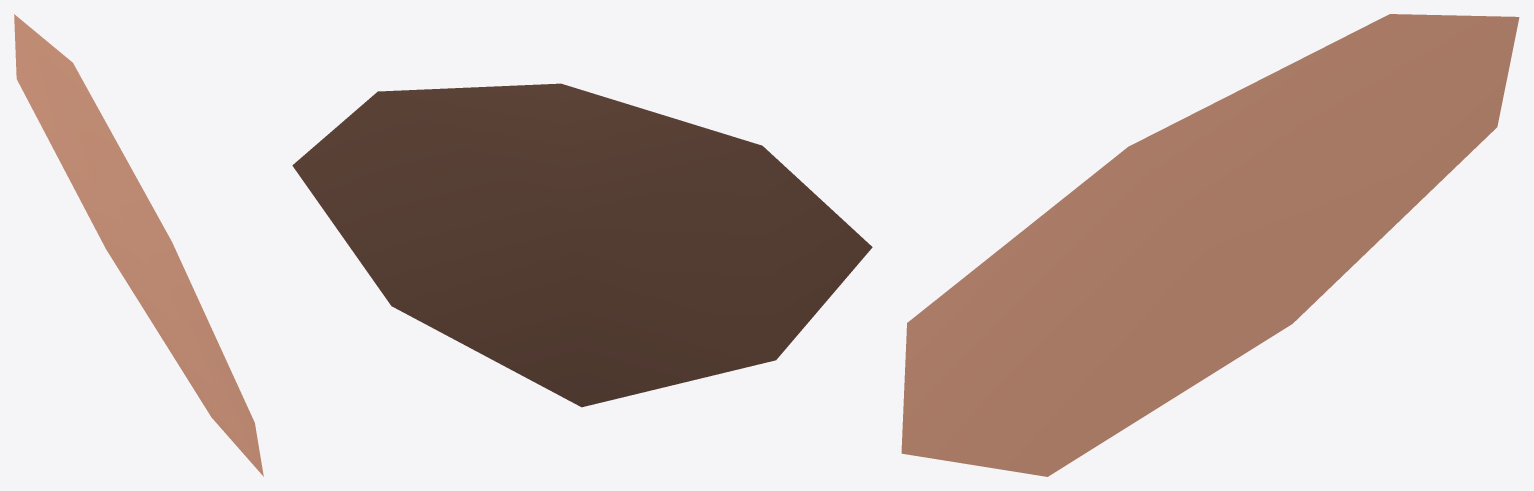
The model's file is inferior-parathyroid-gland-l.glb.
3 views of the same model, side by side, from view 1: azimuth 30°, elevation 25°; view 2: azimuth 150°, elevation 25°; view 3: azimuth 270°, elevation 25° (orthographic). The views are drawn at different scales.
Visible parts, largest first — view 1: Inferior parathyroid gland.l; view 2: Inferior parathyroid gland.l; view 3: Inferior parathyroid gland.l.
Part boxes in pixels (x1=…): Inferior parathyroid gland.l: x1=14, y1=14, x2=263, y2=476; Inferior parathyroid gland.l: x1=292, y1=83, x2=872, y2=407; Inferior parathyroid gland.l: x1=901, y1=14, x2=1519, y2=476.
Bounding box in the file's own units: 0.00131 × 0.00303 × 0.00404.
